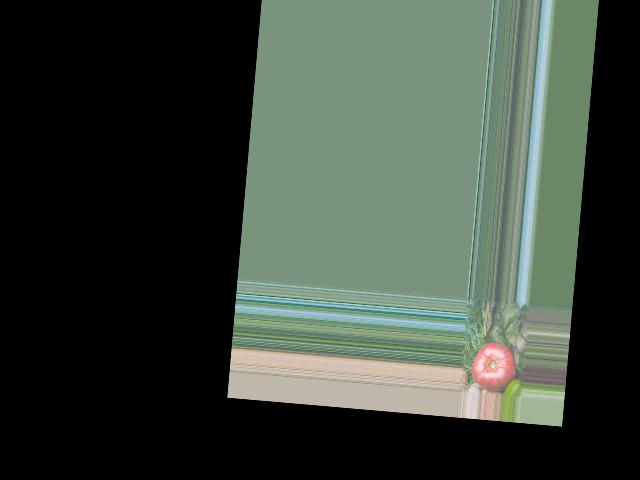tomato: (470, 341, 519, 393)
